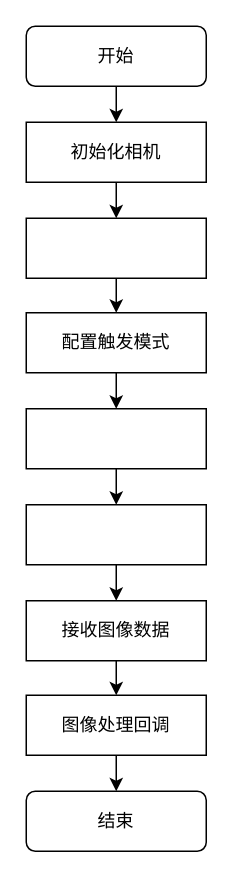
Some shapes in this 233 by 878 pixel diagram are drawn without their labels. Here are the shapes that lost their labels. From the top down, the box of each, then its label:
(25, 217, 206, 278): 建立TCP连接
(25, 407, 206, 469): 启动图像接收
(25, 503, 206, 565): 等待触发信号
